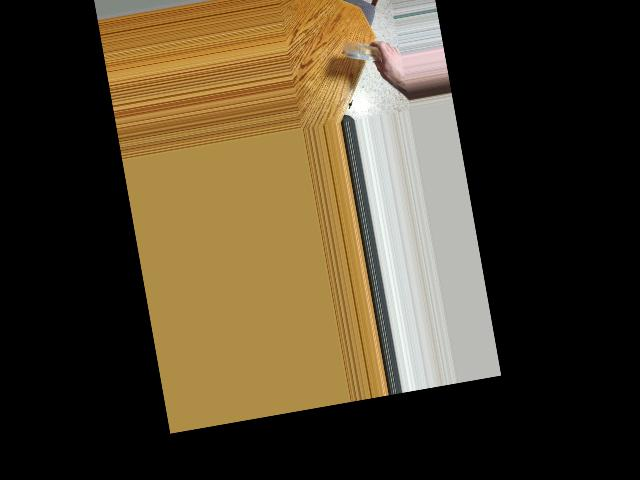cheese: (346, 34, 382, 67)
